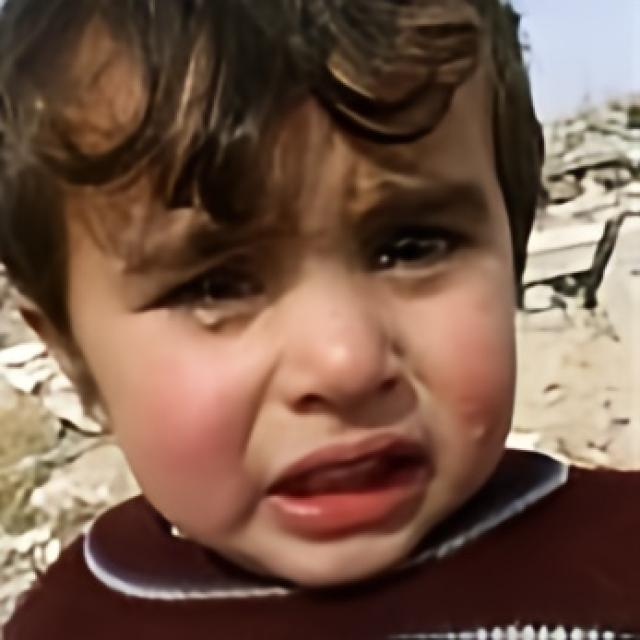sad: (69, 7, 518, 594)
